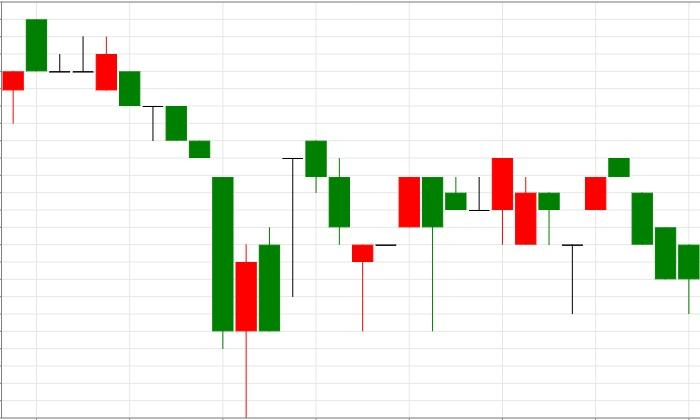hammer_rise: (306, 141, 374, 331)
hanging_man_fall: (351, 177, 444, 332)
